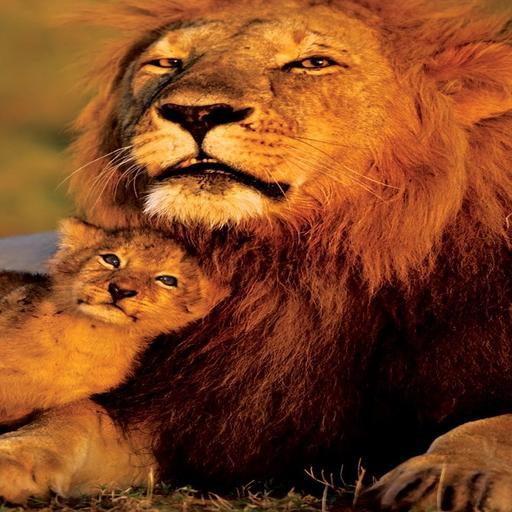Lion: (0, 2, 512, 512), (0, 215, 236, 419)
